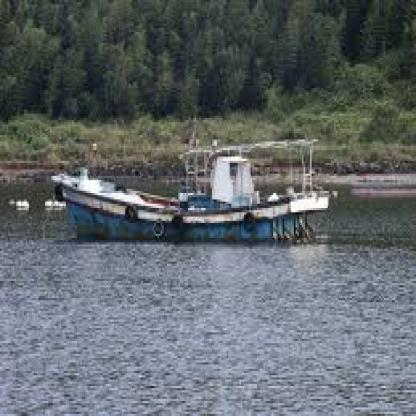fish-b: (43, 127, 339, 255)
